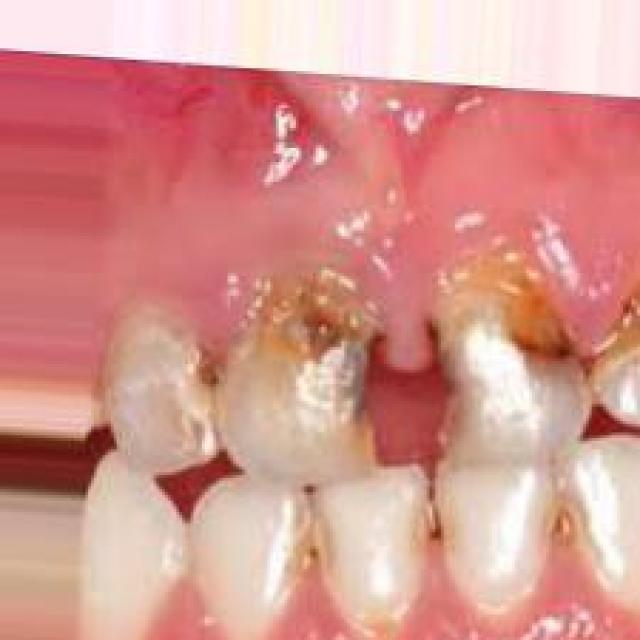caries: (225, 256, 395, 454), (422, 248, 584, 452), (131, 312, 229, 456)
